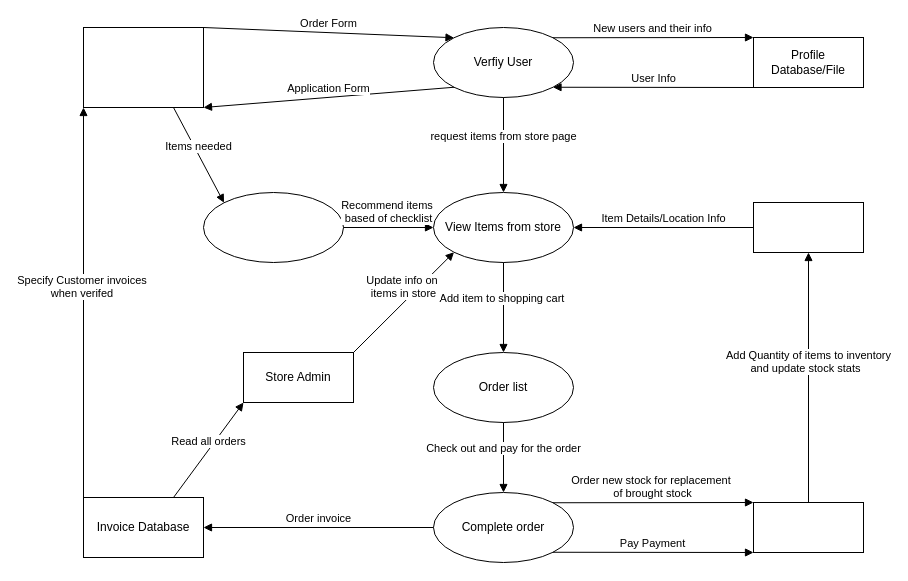
The diagram is 908 pixels wide and 581 high, and some of its shapes have lost their labels. Here are the shapes that lost their labels. From the top down, the centre of each, then its label:
At pixel 143 67: "Customer".
At pixel 273 227: "Viewing Shopping checklist".
At pixel 808 227: "Item Database/FIle".
At pixel 808 527: "Supplier".
